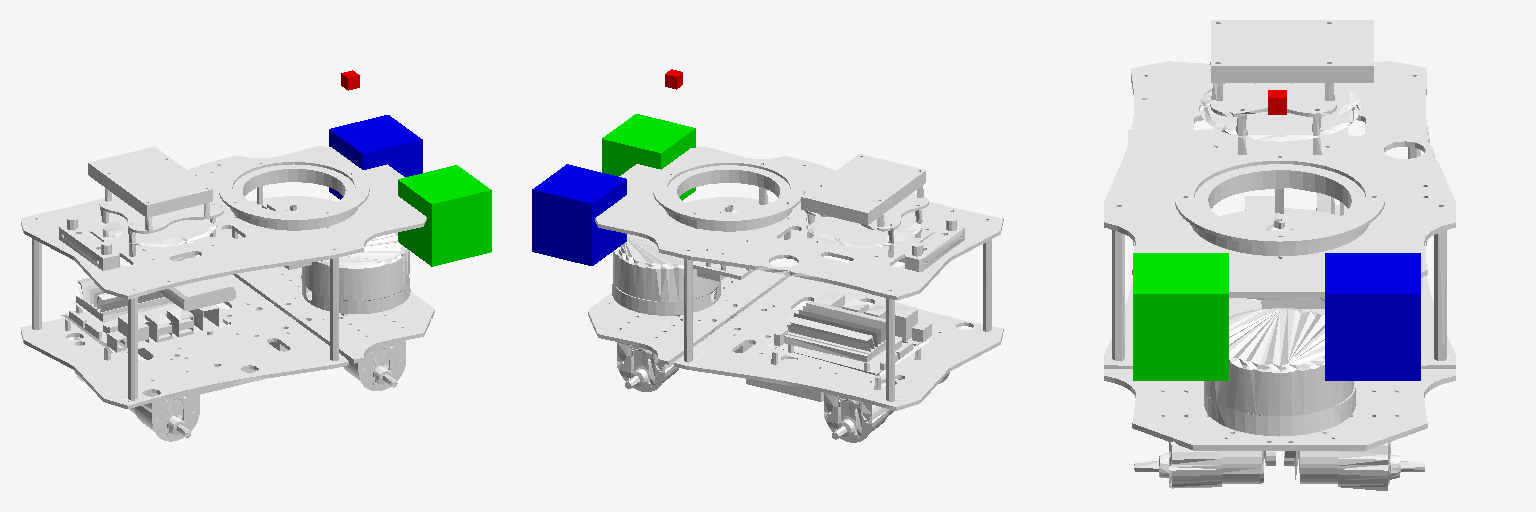
robot.urdf — CyberNaviRobot:
<?xml version="1.0" encoding="utf-8"?>
<robot
  name="CyberNaviRobot">
  <link
    name="base_link">
    <inertial>
      <origin
        xyz="-0.0126930979005275 0.00191328701604972 0.138027242309266"
        rpy="0 0 0" />
      <mass
        value="1.02316767990512" />
      <inertia
        ixx="0.00139586884914313"
        ixy="-1.1634425915606E-06"
        ixz="2.08900696909113E-08"
        iyy="0.00163816424060367"
        iyz="1.3906877128818E-07"
        izz="0.00212627787861002" />
    </inertial>
    <visual>
      <origin
        xyz="-0.14 -0.0925 0"
        rpy="0 0 0" />
      <geometry>
        <mesh
          filename="package://mycar_description/meshes/base_link.STL" />
      </geometry>
      <material
        name="">
        <color
          rgba="1 1 1 1" />
      </material>
    </visual>
    <collision>
      <origin
        xyz="0 0 0"
        rpy="0 0 0" />
      <geometry>
        <mesh
          filename="package://mycar_description/meshes/base_link.STL" />
      </geometry>
    </collision>
  </link>
  <link
    name="left_front_wheel_link">
    <inertial>
      <origin
        xyz="-3.0979511909876E-06 0.0173322020637727 4.43766253017258E-06"
        rpy="0 0 0" />
      <mass
        value="0.0503853041294886" />
      <inertia
        ixx="5.77203859894131E-06"
        ixy="-6.39490308551869E-10"
        ixz="-6.55101507497994E-10"
        iyy="7.74120907350755E-06"
        iyz="1.14467480632514E-09"
        izz="5.77288622221224E-06" />
    </inertial>
    <visual>
      <origin
        xyz="0 0 0"
        rpy="0 0 0" />
      <geometry>
        <mesh
          filename="package://mycar_description/meshes/left_front_wheel_link.STL" />
      </geometry>
      <material
        name="">
        <color
          rgba="1 1 1 1" />
      </material>
    </visual>
    <collision>
      <origin
        xyz="0 0 0"
        rpy="0 0 0" />
      <geometry>
        <mesh
          filename="package://mycar_description/meshes/left_front_wheel_link.STL" />
      </geometry>
    </collision>
  </link>
  <joint
    name="left_front_wheel_joint"
    type="continuous">
    <origin
      xyz="0.094976 0.076703 0.038001"
      rpy="0 0 0" />
    <parent
      link="base_link" />
    <child
      link="left_front_wheel_link" />
    <axis
      xyz="0 1 0" />
  </joint>
  <link
    name="left_rear_wheel_link">
    <inertial>
      <origin
        xyz="-3.06188346035907E-06 0.017331873242395 -5.84140984641324E-06"
        rpy="0 0 0" />
      <mass
        value="0.0503852022031433" />
      <inertia
        ixx="5.7719914844331E-06"
        ixy="-6.47591418647473E-10"
        ixz="6.3996728285628E-10"
        iyy="7.74122667602425E-06"
        iyz="-1.13209672720901E-09"
        izz="5.77285855433357E-06" />
    </inertial>
    <visual>
      <origin
        xyz="0 0 0"
        rpy="0 0 0" />
      <geometry>
        <mesh
          filename="package://mycar_description/meshes/left_rear_wheel_link.STL" />
      </geometry>
      <material
        name="">
        <color
          rgba="1 1 1 1" />
      </material>
    </visual>
    <collision>
      <origin
        xyz="0 0 0"
        rpy="0 0 0" />
      <geometry>
        <mesh
          filename="package://mycar_description/meshes/left_rear_wheel_link.STL" />
      </geometry>
    </collision>
  </link>
  <joint
    name="left_rear_wheel_joint"
    type="continuous">
    <origin
      xyz="-0.078024 0.076703 0.038001"
      rpy="0 0 0" />
    <parent
      link="base_link" />
    <child
      link="left_rear_wheel_link" />
    <axis
      xyz="0 1 0" />
  </joint>
  <link
    name="right_front_wheel_link">
    <inertial>
      <origin
        xyz="3.06240360546661E-06 -0.0173318735620233 -5.84117647387666E-06"
        rpy="0 0 0" />
      <mass
        value="0.0503852021760132" />
      <inertia
        ixx="5.77199099297903E-06"
        ixy="-6.47832070333766E-10"
        ixz="-6.39570296767498E-10"
        iyy="7.74122684098967E-06"
        iyz="1.13229861557678E-09"
        izz="5.7728593340892E-06" />
    </inertial>
    <visual>
      <origin
        xyz="0 0 0"
        rpy="0 0 0" />
      <geometry>
        <mesh
          filename="package://mycar_description/meshes/right_front_wheel_link.STL" />
      </geometry>
      <material
        name="">
        <color
          rgba="1 1 1 1" />
      </material>
    </visual>
    <collision>
      <origin
        xyz="0 0 0"
        rpy="0 0 0" />
      <geometry>
        <mesh
          filename="package://mycar_description/meshes/right_front_wheel_link.STL" />
      </geometry>
    </collision>
  </link>
  <joint
    name="right_front_wheel_joint"
    type="continuous">
    <origin
      xyz="0.094976 -0.075297 0.038001"
      rpy="0 0 0" />
    <parent
      link="base_link" />
    <child
      link="right_front_wheel_link" />
    <axis
      xyz="0 1 0" />
  </joint>
  <link
    name="right_rear_wheel_link">
    <inertial>
      <origin
        xyz="3.09795119093903E-06 -0.0173322020637727 4.43766253057504E-06"
        rpy="0 0 0" />
      <mass
        value="0.0503853041294886" />
      <inertia
        ixx="5.77203859894127E-06"
        ixy="-6.39490308545873E-10"
        ixz="6.55101507484353E-10"
        iyy="7.7412090735075E-06"
        iyz="-1.14467480634659E-09"
        izz="5.77288622221223E-06" />
    </inertial>
    <visual>
      <origin
        xyz="0 0 0"
        rpy="0 0 0" />
      <geometry>
        <mesh
          filename="package://mycar_description/meshes/right_rear_wheel_link.STL" />
      </geometry>
      <material
        name="">
        <color
          rgba="1 1 1 1" />
      </material>
    </visual>
    <collision>
      <origin
        xyz="0 0 0"
        rpy="0 0 0" />
      <geometry>
        <mesh
          filename="package://mycar_description/meshes/right_rear_wheel_link.STL" />
      </geometry>
    </collision>
  </link>
  <joint
    name="right_rear_wheel_joint"
    type="continuous">
    <origin
      xyz="-0.078024 -0.075297 0.038001"
      rpy="0 0 0" />
    <parent
      link="base_link" />
    <child
      link="right_rear_wheel_link" />
    <axis
      xyz="0 1 0" />
  </joint>

  <!-- Laser -->
  <link name="laser">
    <inertial>
      <mass value="0.1" />
      <origin xyz="0 0 0" rpy="0 0 0" />
      <inertia ixx="0.001" ixy="0.0" ixz="0.0" iyy="0.001" iyz="0.0" izz="0.001" />
    </inertial>
    <visual>
      <origin xyz="0 0 0" rpy="0 0 0" />
      <geometry>
        <box size="0.01 0.01 0.01" />
      </geometry>
      <material name="red">
        <color rgba="1 0 0 1" />
      </material>
    </visual>
    <collision>
      <origin xyz="0 0 0" rpy="0 0 0" />
      <geometry>
        <box size="0.05 0.05 0.05" />
      </geometry>
    </collision>
  </link>
  <joint name="laser_joint" type="fixed">
    <parent link="base_link" />
    <child link="laser" />
    <origin xyz="0.10 0 0.25" rpy="0 0 0" /> <!-- 激光雷达位置 -->
  </joint>

  <!-- Camera -->
  <link name="camera">
    <inertial>
      <mass value="0.1" />
      <origin xyz="0 0 0" rpy="0 0 0" />
      <inertia ixx="0.001" ixy="0.0" ixz="0.0" iyy="0.001" iyz="0.0" izz="0.001" />
    </inertial>
    <visual>
      <origin xyz="0 0 0" rpy="0 0 0" />
      <geometry>
        <box size="0.05 0.05 0.05" />
      </geometry>
      <material name="blue">
        <color rgba="0 0 1 1" />
      </material>
    </visual>
    <collision>
      <origin xyz="0 0 0" rpy="0 0 0" />
      <geometry>
        <box size="0.05 0.05 0.05" />
      </geometry>
    </collision>
  </link>
  <joint name="camera_joint" type="fixed">
    <parent link="base_link" />
    <child link="camera" />
    <origin xyz="0.15 0.05 0.15" rpy="0 0 0" /> <!-- 相机位置（向右偏移 0.1 米） -->
  </joint>

  <!-- Depth Camera -->
  <link name="depth_camera">
    <inertial>
      <mass value="0.1" />
      <origin xyz="0 0 0" rpy="0 0 0" />
      <inertia ixx="0.001" ixy="0.0" ixz="0.0" iyy="0.001" iyz="0.0" izz="0.001" />
    </inertial>
    <visual>
      <origin xyz="0 0 0" rpy="0 0 0" />
      <geometry>
        <box size="0.05 0.05 0.05" />
      </geometry>
      <material name="green">
        <color rgba="0 1 0 1" />
      </material>
    </visual>
    <collision>
      <origin xyz="0 0 0" rpy="0 0 0" />
      <geometry>
        <box size="0.05 0.05 0.05" />
      </geometry>
    </collision>
  </link>
  <joint name="depth_camera_joint" type="fixed">
    <parent link="base_link" />
    <child link="depth_camera" />
    <origin xyz="0.15 -0.05 0.15" rpy="0 0 0" /> <!-- 深度相机位置（向左偏移 0.1 米） -->
  </joint>


<!-- 运动控制插件 -->
<gazebo>
    <plugin
        filename="ignition-gazebo-diff-drive-system"
        name="ignition::gazebo::systems::DiffDrive">
        <left_joint>left_front_wheel_joint</left_joint>
        <left_joint>left_rear_wheel_joint</left_joint>
        <right_joint>right_front_wheel_joint</right_joint>
        <right_joint>right_rear_wheel_joint</right_joint>
        <wheel_separation>0.4</wheel_separation>
        <wheel_radius>0.0415</wheel_radius>
        <odom_publish_frequency>50</odom_publish_frequency>
        <frame_id>odom</frame_id>
        <child_frame_id>base_link</child_frame_id>
        <topic>/cmd_vel</topic>
        <max_linear_acceleration>10</max_linear_acceleration>
        <min_linear_acceleration>-10</min_linear_acceleration>
        <max_angular_acceleration>10</max_angular_acceleration>
        <min_angular_acceleration>-10</min_angular_acceleration>
        <max_linear_velocity>0.5</max_linear_velocity>
        <min_linear_velocity>-0.5</min_linear_velocity>
        <max_angular_velocity>1</max_angular_velocity>
        <min_angular_velocity>-1</min_angular_velocity>
      </plugin>
  </gazebo>
  <!-- 关节状态发布 -->
  <gazebo>
    <plugin filename="ignition-gazebo-joint-state-publisher-system"
      name="ignition::gazebo::systems::JointStatePublisher">
    </plugin>
  </gazebo>



  <!-- 添加传感器插件 -->

<gazebo>
    <plugin
      filename="ignition-gazebo-sensors-system"
      name="ignition::gazebo::systems::Sensors">
      <render_engine>ogre2</render_engine>
    </plugin>
  </gazebo>

 <!-- 雷达传感器 -->
  <gazebo reference="laser">
    <sensor name='gpu_lidar' type='gpu_lidar'>
      <topic>scan</topic>
      <update_rate>30</update_rate>
      <lidar>
        <scan>
          <horizontal>
            <samples>640</samples>
            <resolution>1</resolution>
            <min_angle>-3.1415926</min_angle>
            <max_angle>3.1415926</max_angle>
          </horizontal>
          <vertical>
            <samples>16</samples>
            <resolution>1</resolution>
            <min_angle>-0.261799</min_angle>
            <max_angle>0.261799</max_angle>
          </vertical>
        </scan>
        <range>
          <min>0.1</min>
          <max>10.0</max>
          <resolution>0.01</resolution>
        </range>
      </lidar>
      <alwaysOn>1</alwaysOn>
      <visualize>true</visualize>
      <ignition_frame_id>laser</ignition_frame_id>
    </sensor>
  </gazebo>

  <!-- 单目相机 -->

  <gazebo reference="camera" >
    <sensor name="cam_link" type="camera">
      <update_rate>10.0</update_rate>
      <always_on>true</always_on>
      <ignition_frame_id>camera</ignition_frame_id>
      <pose>0 0 0 0 0 0</pose>
      <topic>/image_raw</topic>
      <camera name="my_camera">
        <horizontal_fov>1.3962634</horizontal_fov>
        <image>
           <width>600</width>
           <height>600</height>
           <format>R8G8B8</format>
        </image>
        <clip>
          <near>0.02</near>
          <far>300</far>
        </clip>
      </camera>
    </sensor>
  </gazebo>

  <!-- 深度相机 -->

  <gazebo reference="camera">
    <sensor name="depth_camera" type="depth_camera">
          <update_rate>10</update_rate>
          <topic>depth_camera</topic>
          <camera>
            <horizontal_fov>1.05</horizontal_fov>
            <image>
              <width>256</width>
              <height>256</height>
              <format>R_FLOAT32</format>
            </image>
            <clip>
              <near>0.1</near>
              <far>10.0</far>
            </clip>
          </camera>
          <alwaysOn>1</alwaysOn>
          <ignition_frame_id>depth_camera</ignition_frame_id>
      </sensor>
  </gazebo>


</robot>

--- Render facts (derived) ---
3 views of the same robot in one strip: view 1: azimuth 30°, elevation 25°; view 2: azimuth 150°, elevation 25°; view 3: azimuth 270°, elevation 25° (orthographic).
Model CyberNaviRobot with 8 links and 7 joints (4 continuous, 3 fixed), rooted at base_link, posed all joints at 0.
Links seen in each view (by area): view 1: base_link, depth_camera, camera; view 2: base_link, camera, depth_camera; view 3: base_link, camera, depth_camera.
Link boxes in pixels (bbox=[...]): base_link: bbox=[20, 146, 434, 441]; depth_camera: bbox=[398, 165, 491, 266]; camera: bbox=[329, 115, 422, 199]; base_link: bbox=[588, 146, 1003, 442]; camera: bbox=[532, 164, 626, 265]; depth_camera: bbox=[602, 114, 695, 200]; base_link: bbox=[1104, 20, 1455, 490]; camera: bbox=[1325, 253, 1420, 380]; depth_camera: bbox=[1133, 253, 1228, 380].
Bounding box of the posed robot: 0.315 × 0.184 × 0.2294 m (x, y, z).
1 mesh visuals loaded from 5 distinct referenced files (1 binary STL); not drawn: 4 (reference not matched to a file when rendering).